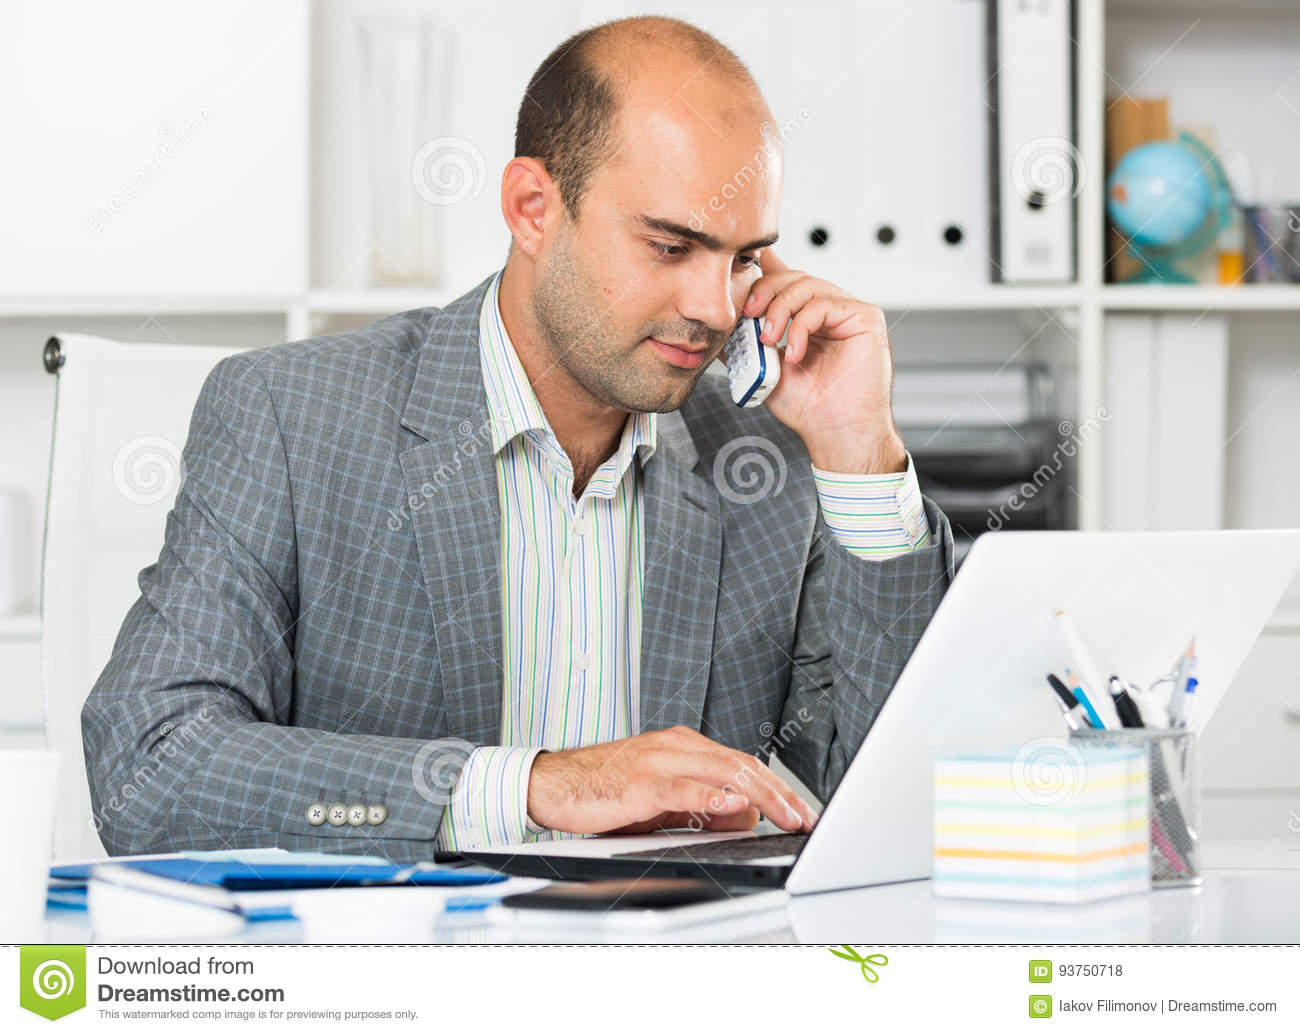talk: (600, 183, 898, 477)
